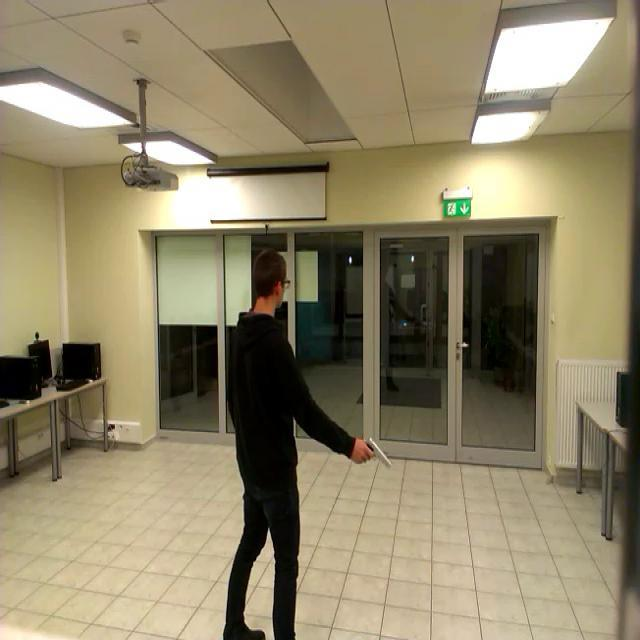Gun: (356, 436, 390, 466)
